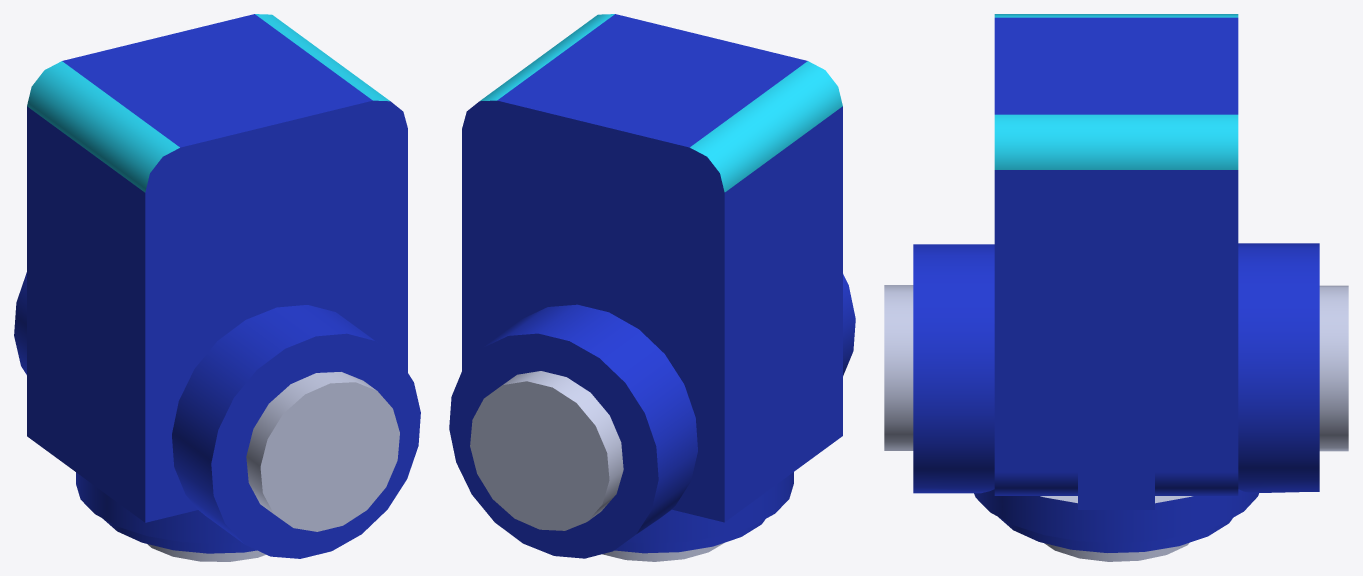
The picture shows the model from 3 angles, left to right: view 1: azimuth 30°, elevation 25°; view 2: azimuth 150°, elevation 25°; view 3: azimuth 270°, elevation 25°; orthographic projection. The views are drawn at different scales.
Parts seen in each view (by area): view 1: mesh 2 link3, mesh 1 link3, mesh 3 link3; view 2: mesh 2 link3, mesh 1 link3, mesh 3 link3; view 3: mesh 2 link3, mesh 3 link3, mesh 1 link3.
Boxes of the visible parts, x1=… form: mesh 2 link3: x1=14, y1=14, x2=420, y2=558; mesh 1 link3: x1=147, y1=372, x2=399, y2=561; mesh 3 link3: x1=27, y1=14, x2=389, y2=192; mesh 2 link3: x1=449, y1=14, x2=855, y2=558; mesh 1 link3: x1=470, y1=371, x2=723, y2=561; mesh 3 link3: x1=480, y1=14, x2=842, y2=192; mesh 2 link3: x1=913, y1=17, x2=1319, y2=552; mesh 3 link3: x1=994, y1=14, x2=1238, y2=169; mesh 1 link3: x1=884, y1=285, x2=1348, y2=561.
Size of the model in its own units: 0.075 by 0.122 by 0.1115.
